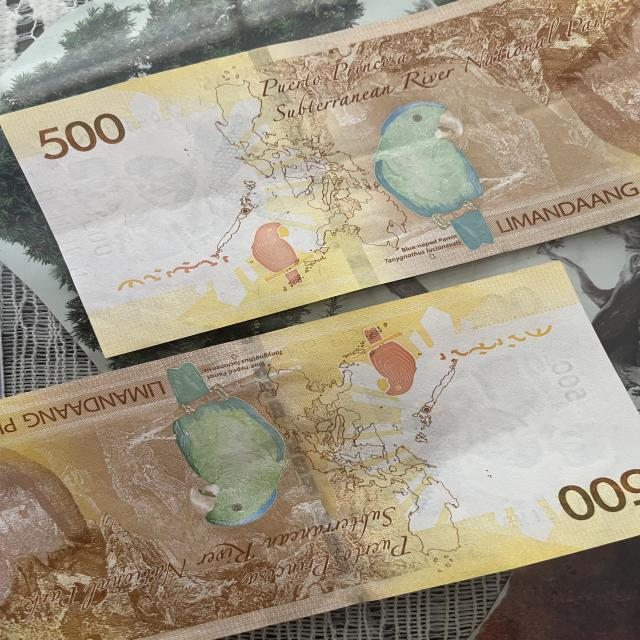500_big_parrot: (148, 362, 289, 524), (356, 101, 497, 255)
500_parrot_watermark: (239, 221, 319, 291), (351, 324, 420, 396)
value_watermark: (552, 357, 593, 405), (74, 219, 121, 260)
watermark: (444, 355, 619, 478), (59, 146, 235, 261)
